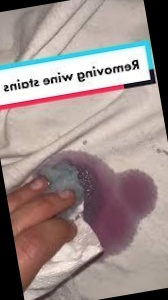wine: (87, 157, 158, 246), (104, 219, 142, 270), (68, 141, 112, 169)
